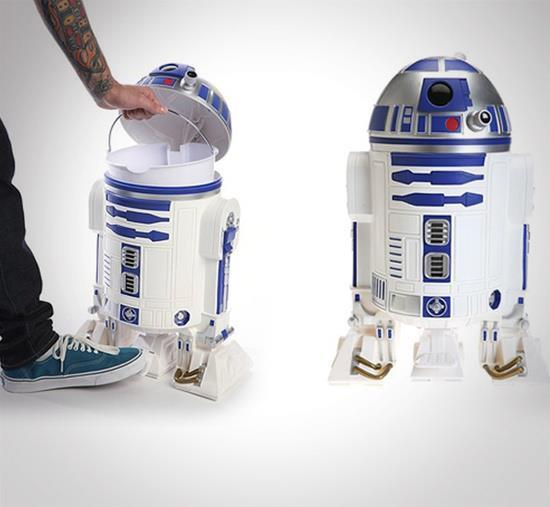r2d2: (331, 55, 549, 386), (89, 174, 252, 400)
